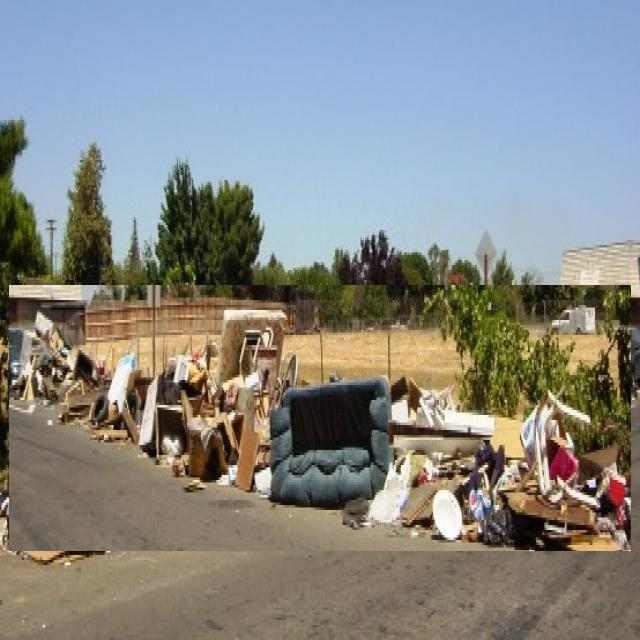dumping: (9, 285, 631, 551)
